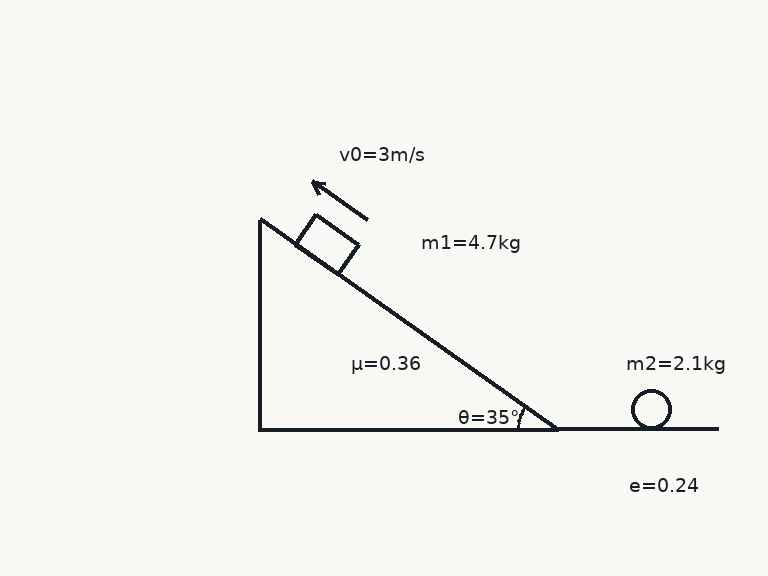ball: (629, 387, 673, 431)
block: (293, 212, 360, 276)
ramp: (257, 218, 560, 431)
